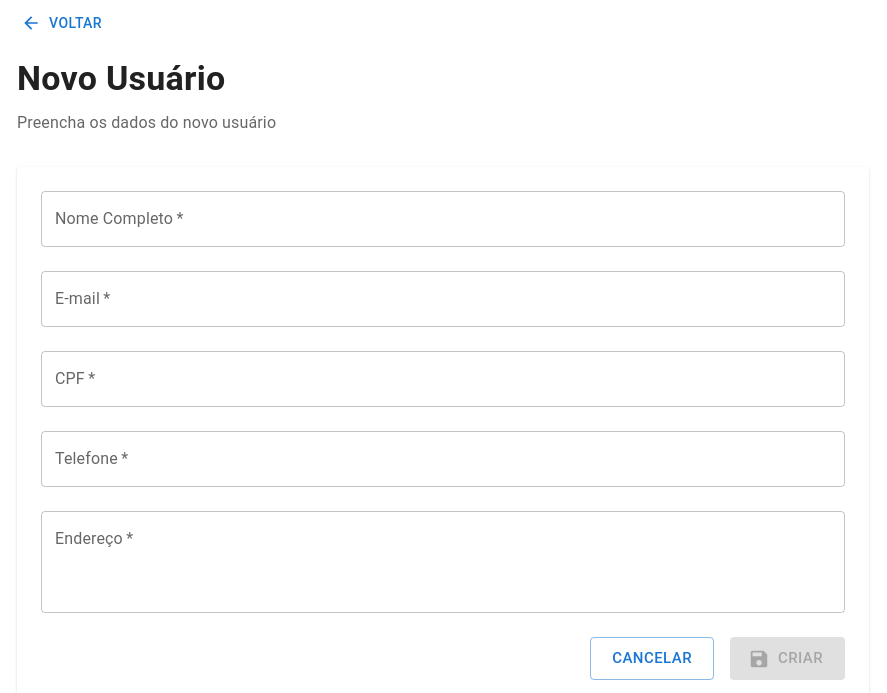
it: UserForm › should format phone while typing
Type "11987654321" into the field labelled "Telefone *" at x=443, y=459, box top-left (41, 431), bottom-right (845, 487)
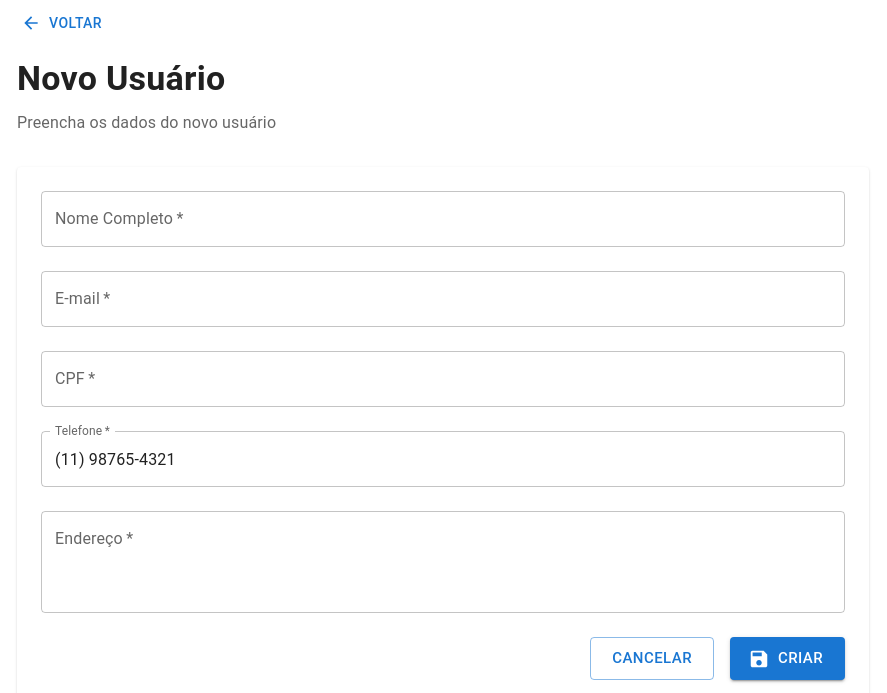
Expected: the field labelled "Telefone *" holds "(11) 98765-4321", top-left (41, 431), bottom-right (845, 487)
